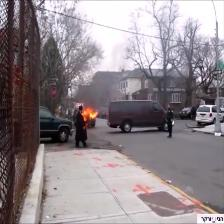fire: (86, 103, 100, 118)
